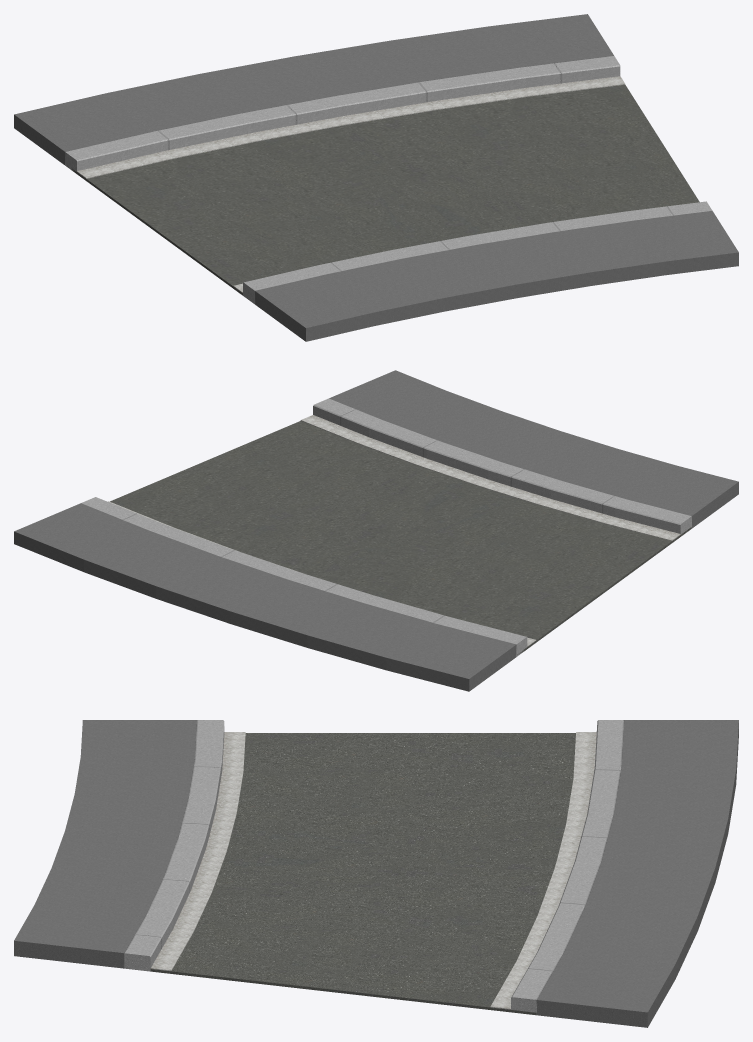
File: sweethome3d-scopia-curved-road-1-lane-6-5m.glb
3 renders of one model, top to bottom at view 1: azimuth 30°, elevation 25°; view 2: azimuth 150°, elevation 25°; view 3: azimuth 270°, elevation 25°, orthographic. The views are drawn at different scales.
Visible parts, largest first — view 1: roadCourbe1VoiesAvecTrottoirs6-5m_Plane.045; view 2: roadCourbe1VoiesAvecTrottoirs6-5m_Plane.045; view 3: roadCourbe1VoiesAvecTrottoirs6-5m_Plane.045.
Part boxes in pixels (x1,y1,x2,y2): roadCourbe1VoiesAvecTrottoirs6-5m_Plane.045: (14,14,738,341); roadCourbe1VoiesAvecTrottoirs6-5m_Plane.045: (14,370,738,691); roadCourbe1VoiesAvecTrottoirs6-5m_Plane.045: (14,720,738,1027).
Bounding box in the file's own units: 733 × 18 × 768.
Materials: 9 (9 with a texture image).
